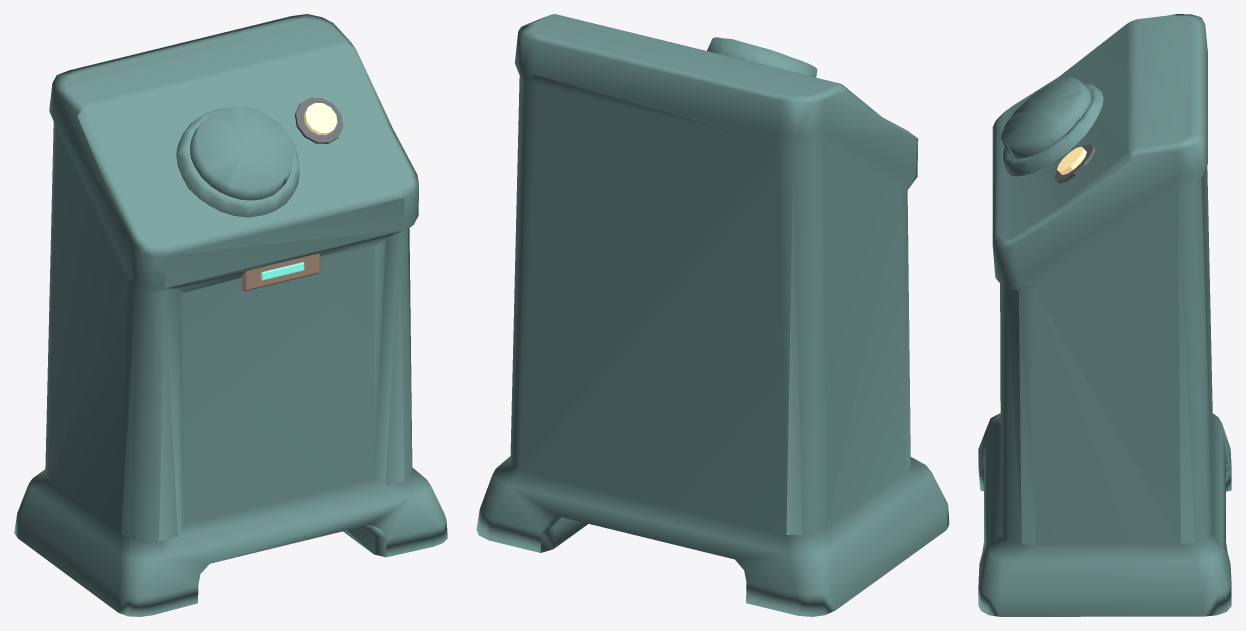
The model's file is I05_art_repair_candidate.glb.
3 renders of one model, left to right at view 1: azimuth 30°, elevation 25°; view 2: azimuth 150°, elevation 25°; view 3: azimuth 270°, elevation 25°, orthographic. The views are drawn at different scales.
Parts seen in each view (by area): view 1: I05_GeometryCandidate, I05_Front_Status_Plate, I05_Status_Bezel, I05_Status_Insert; view 2: I05_GeometryCandidate; view 3: I05_GeometryCandidate, I05_Status_Insert, I05_Status_Bezel.
Part boxes in pixels (<box>): I05_GeometryCandidate: <box>14,14,447,616</box>; I05_Front_Status_Plate: <box>242,253,320,291</box>; I05_Status_Bezel: <box>295,97,343,143</box>; I05_Status_Insert: <box>303,103,337,135</box>; I05_GeometryCandidate: <box>476,14,949,616</box>; I05_GeometryCandidate: <box>978,14,1231,616</box>; I05_Status_Insert: <box>1057,146,1086,174</box>; I05_Status_Bezel: <box>1054,144,1095,183</box>.
Bounding box in the file's own units: 3 × 4 × 2.
